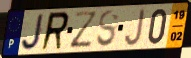0: (147, 8, 169, 46)
J: (20, 12, 46, 52), (124, 8, 147, 47)
R: (39, 10, 71, 53)
S: (95, 9, 120, 49)
Z: (68, 11, 100, 51)
